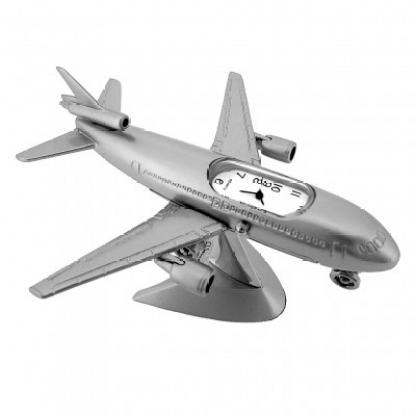CIV_Plane: (9, 54, 407, 306)
